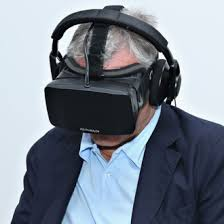oculus: (43, 62, 147, 137)
